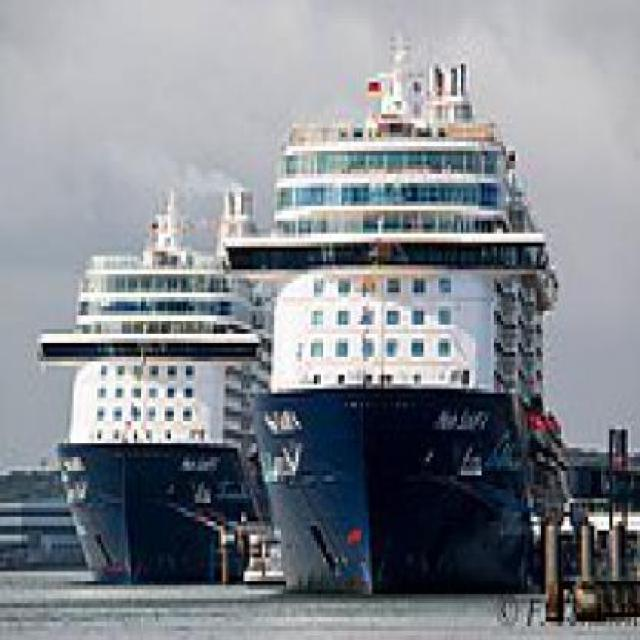cruise: (214, 24, 580, 610), (25, 165, 279, 596)
